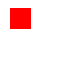square: (10, 8, 30, 28)
